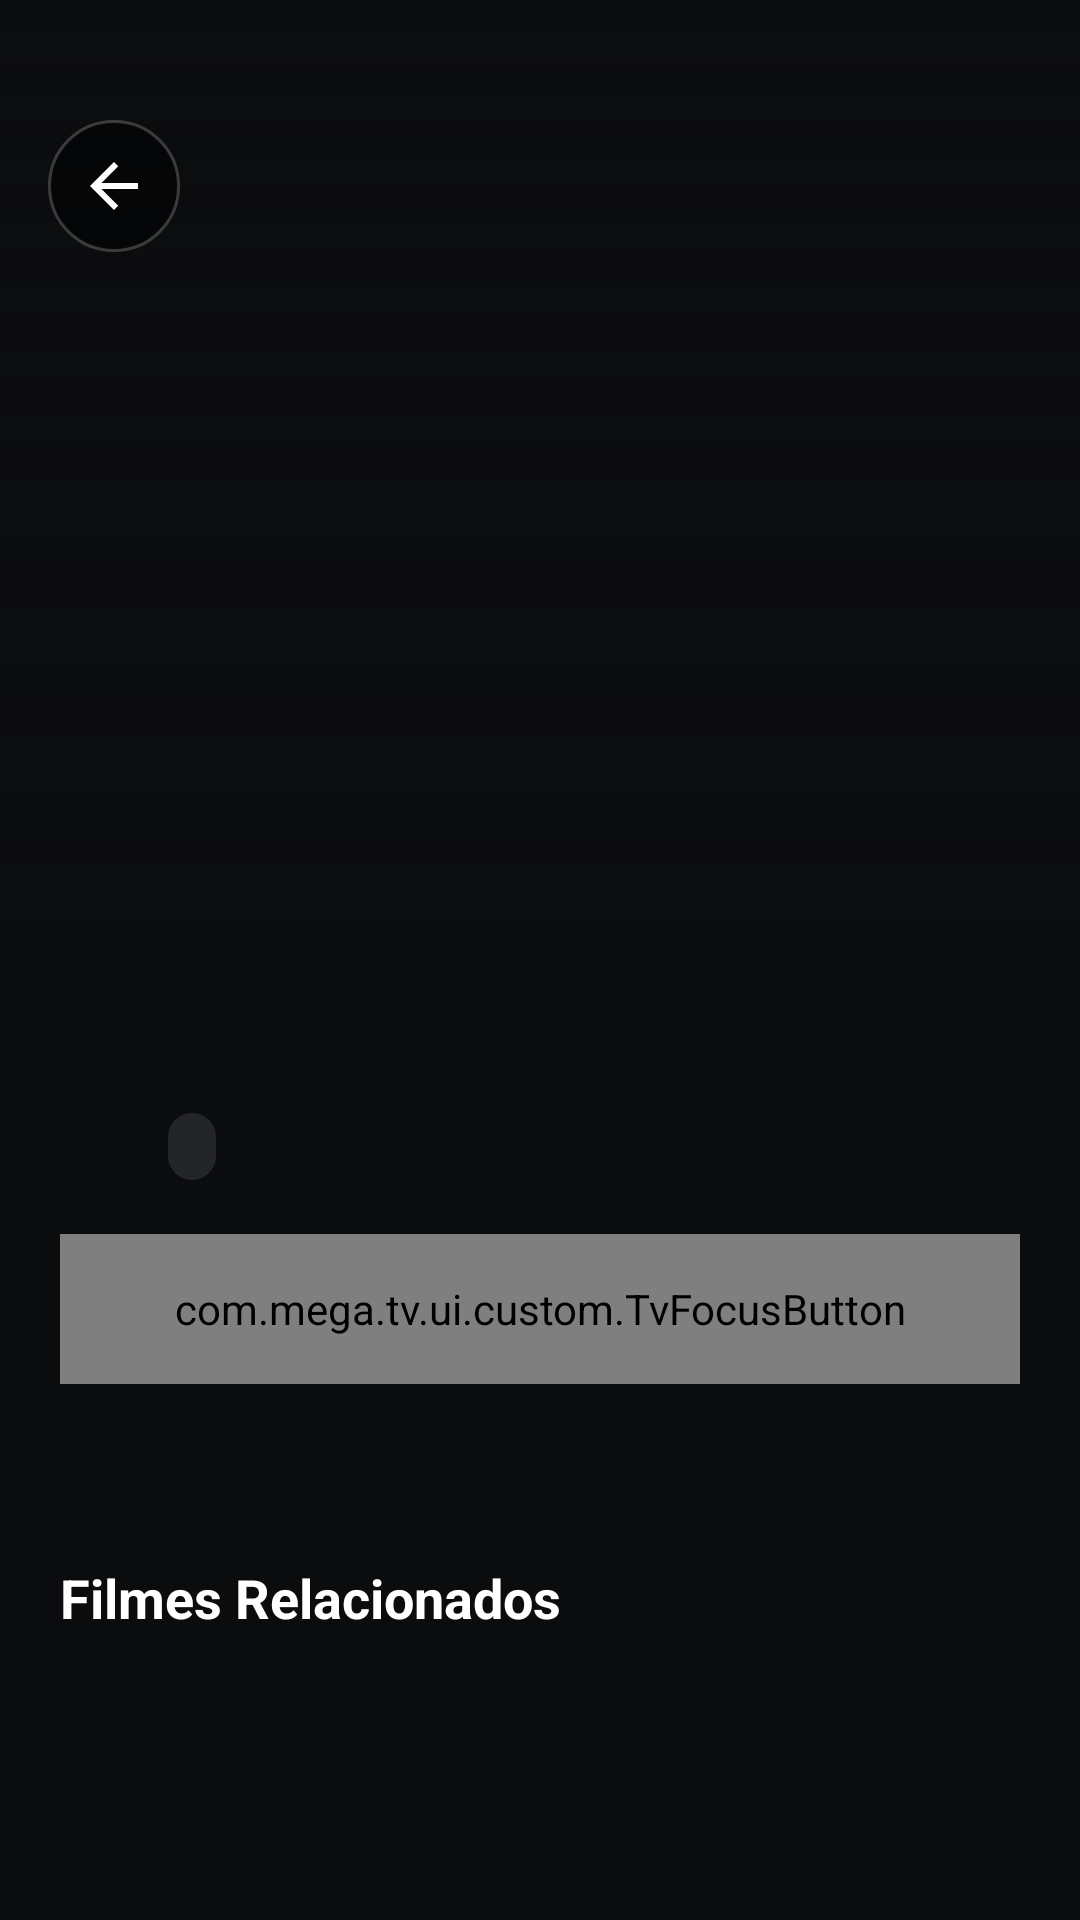

Locate icon controls on the screen. Image size 1080px x 1920px, boxes as (x1, y1, x2, y2).
Voltar: (48, 120, 180, 252)
